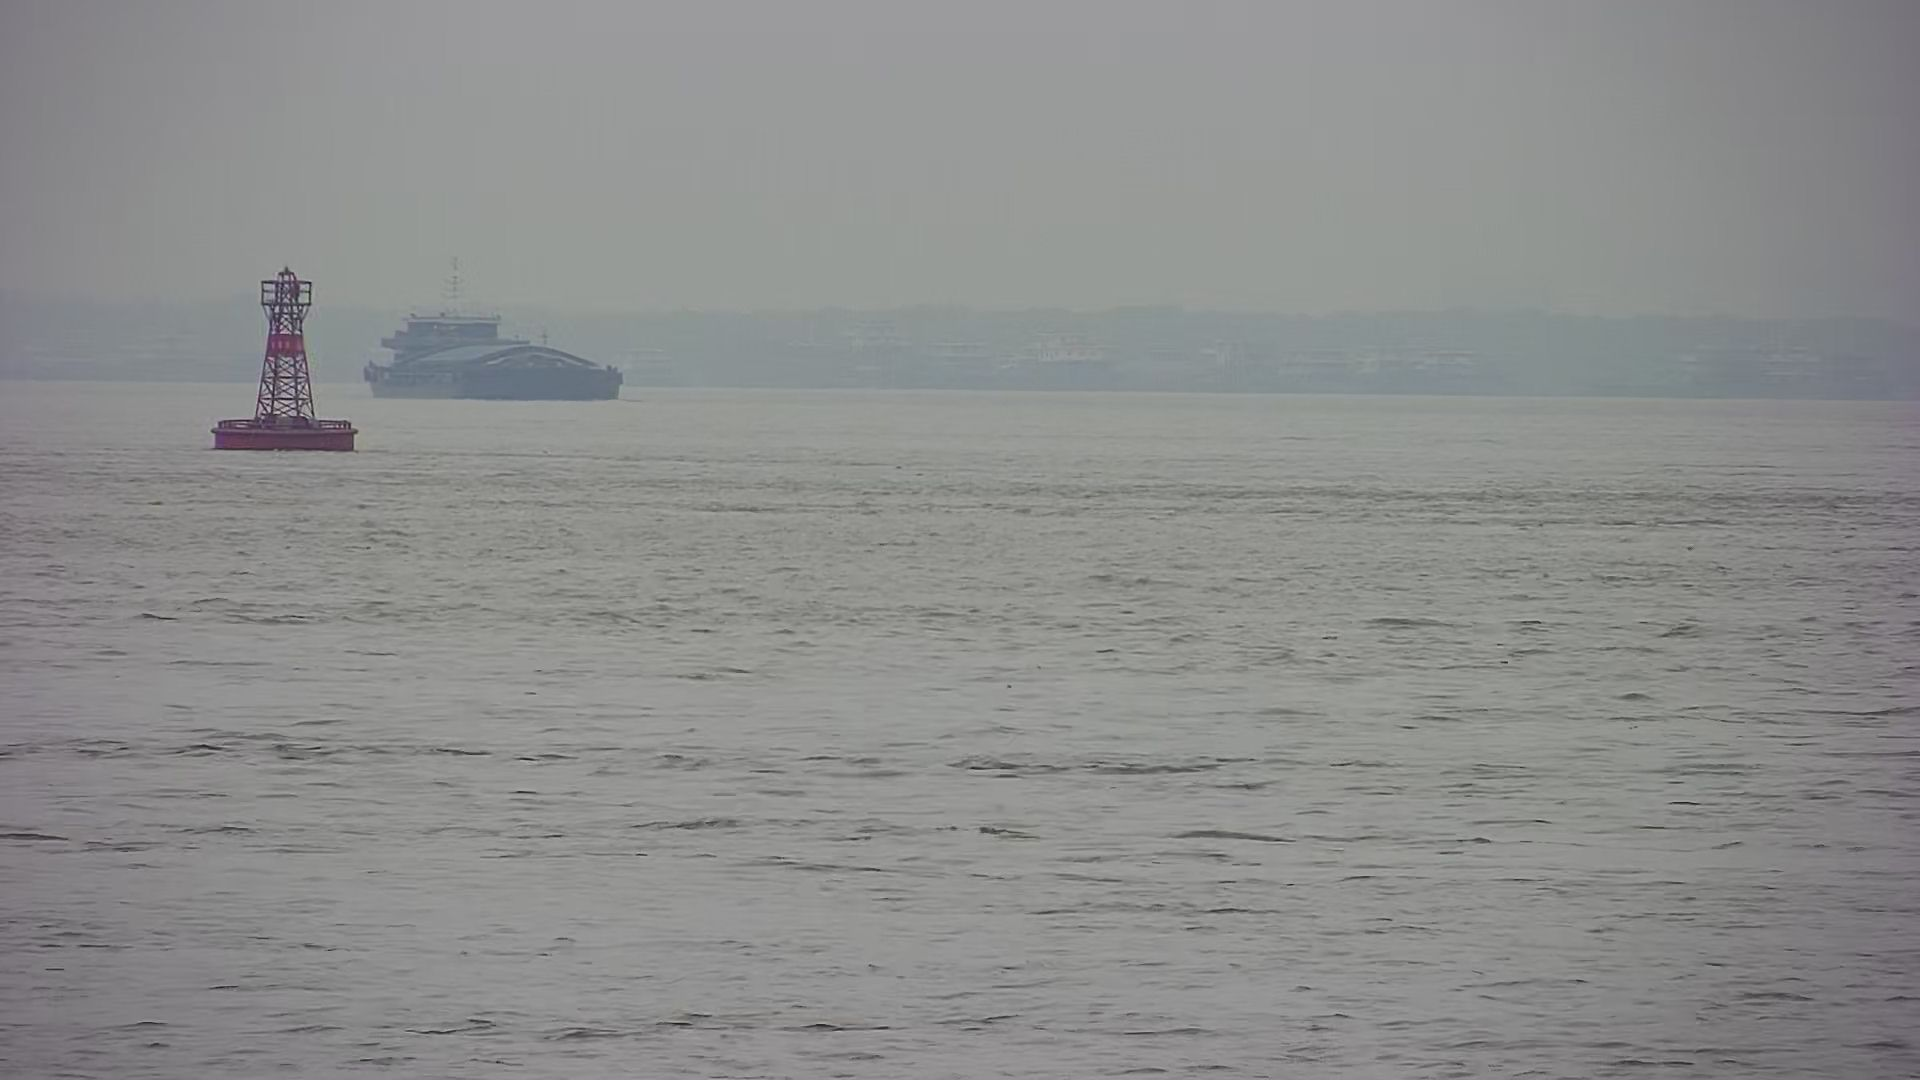buoy: (196, 256, 371, 462)
ship: (349, 284, 624, 415)
